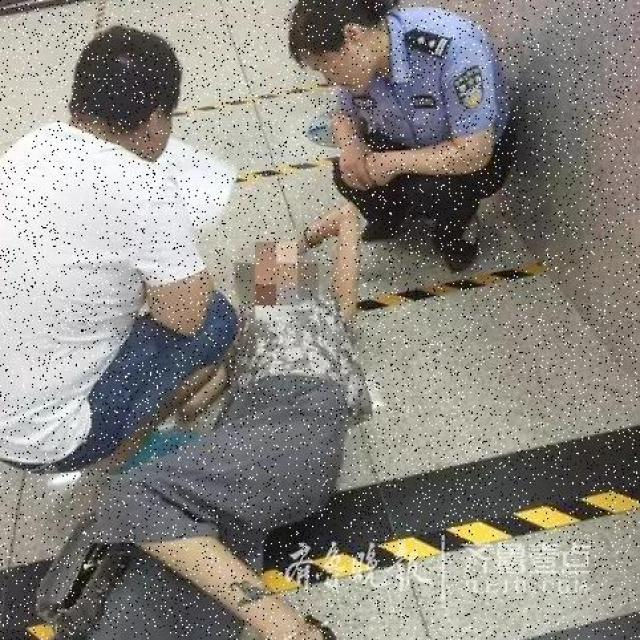fall: (102, 217, 372, 638)
